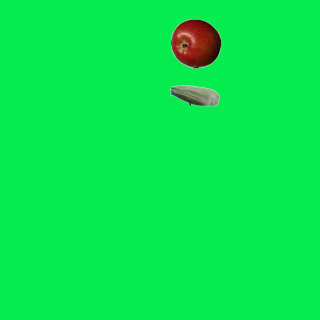Apple Braeburn: (170, 18, 220, 68)
Corn Husk: (169, 70, 219, 120)
